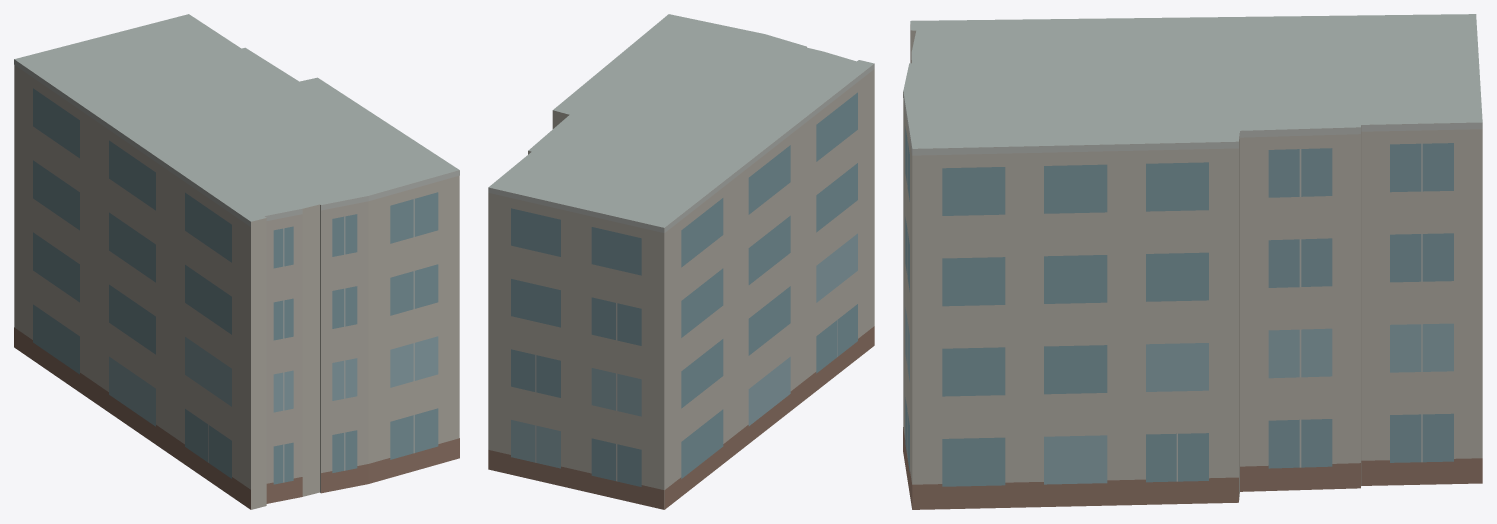
File: survey-upis-33046768.glb
3 views of the same model, side by side, from view 1: azimuth 30°, elevation 25°; view 2: azimuth 150°, elevation 25°; view 3: azimuth 270°, elevation 25° (orthographic). The views are drawn at different scales.
Visible parts, largest first — view 1: survey-upis-33046768.tmp; view 2: survey-upis-33046768.tmp; view 3: survey-upis-33046768.tmp.
Boxes of the visible parts, box(x1,y1,x2,y2) form: survey-upis-33046768.tmp: box(14, 14, 459, 509); survey-upis-33046768.tmp: box(488, 14, 874, 509); survey-upis-33046768.tmp: box(903, 14, 1482, 509).
Size of the model in its own units: 10.43 by 13 by 18.92.
